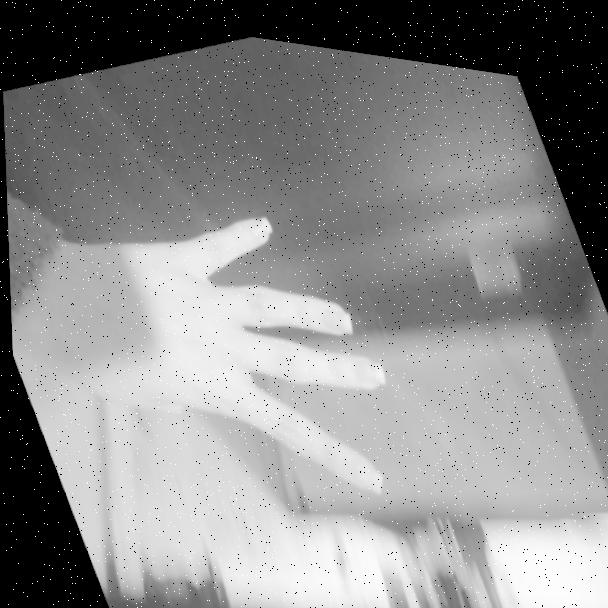four: (16, 143, 430, 581)
